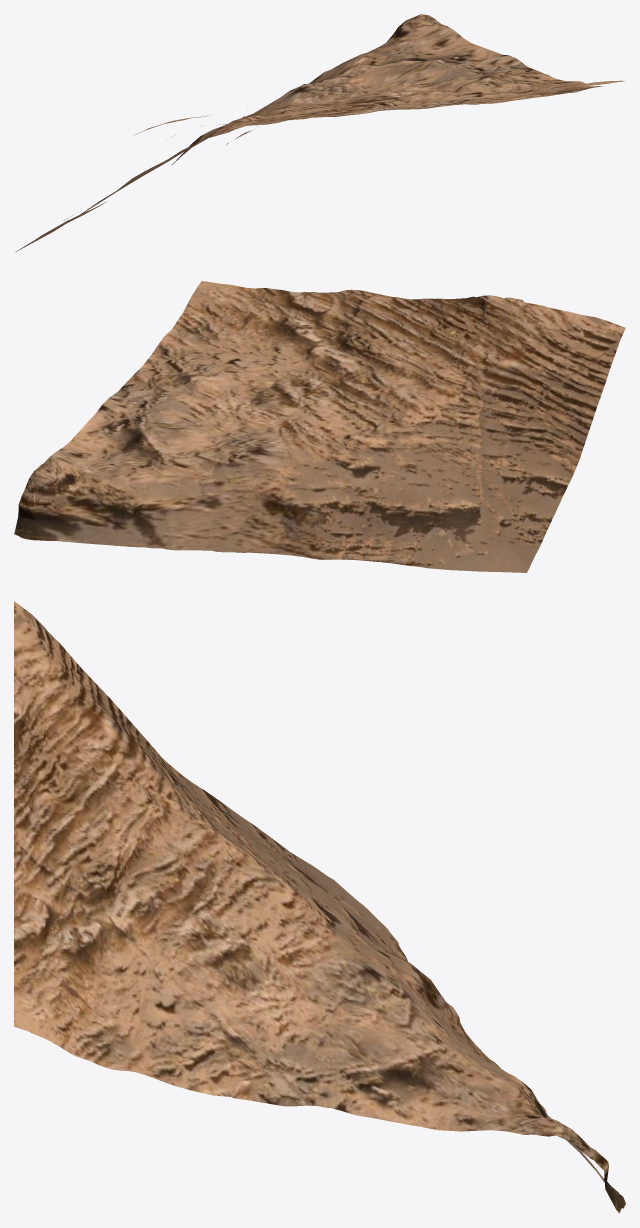
3 views of the same model, one above another, from view 1: azimuth 30°, elevation 25°; view 2: azimuth 150°, elevation 25°; view 3: azimuth 270°, elevation 25° (orthographic). The views are drawn at different scales.
Bounding box in the file's own units: 1.04 × 0.4134 × 0.809.
Materials: 2 (2 with a texture image).
